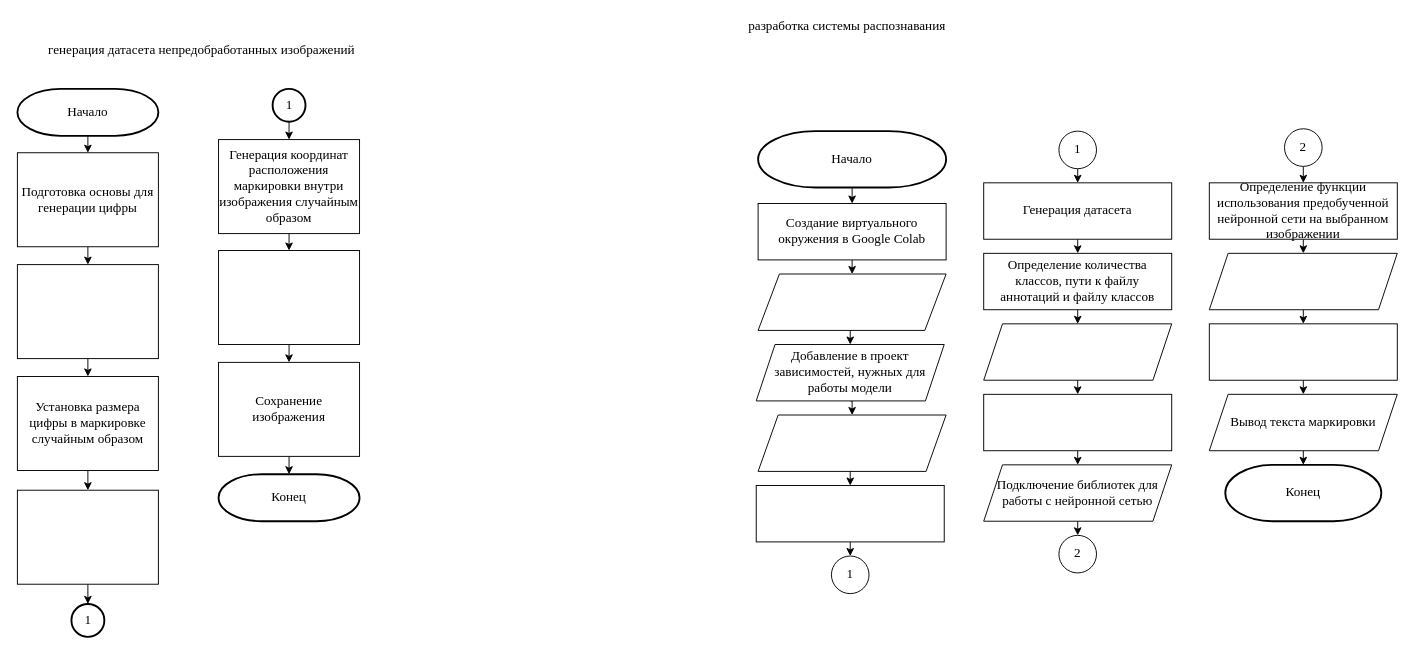
Some shapes in this 1414 by 653 pixel diagram are drawn without their labels. Here are the shapes that lost their labels. From the top down, the box of each, then its label:
(218, 250, 360, 345): Нанесение маркировки на изображение
(1208, 252, 1397, 310): Загрузка изображения на обработку
(16, 264, 158, 359): Составление списка линий генерации цифры
(757, 273, 946, 330): Клонирование файлов модели для работы с ней из репозитория GitHub
(983, 323, 1172, 380): Загрузка с GitHub предобученной модели
(1208, 323, 1397, 380): Распознавание текста маркировки и визуальная сегментация
(983, 393, 1172, 451): Обучение модели
(757, 414, 946, 471): Загрузка исходных файлов для генерации датасета
(755, 485, 944, 542): Определение класса для хранения параметров документа
(16, 489, 158, 584): Генерация числа маркировки случайным образом
